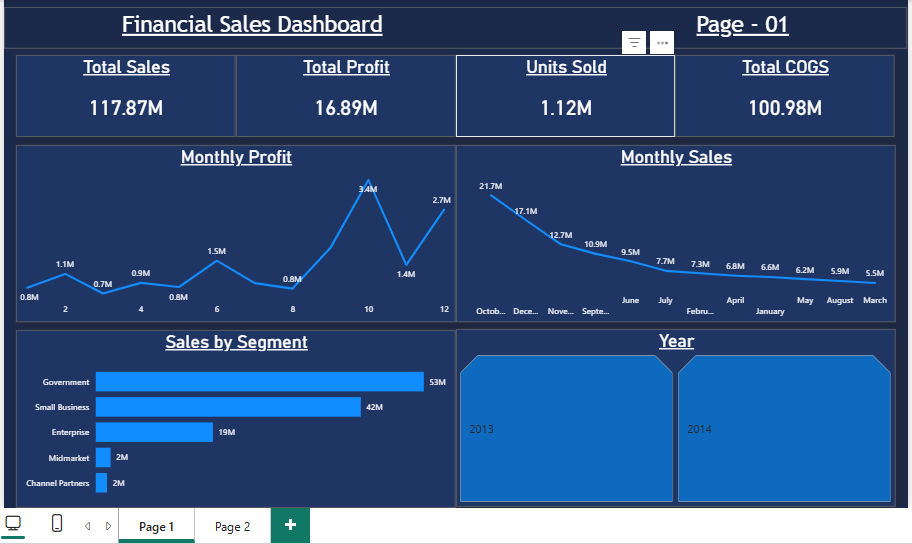

What the dashboard file says about the page in this screenshot:
{"tool":"powerbi","page":{"name":"Page 1","canvas":[1280,720],"ordinal":0},"visuals":[{"type":"textbox","box":[0,10,1280,58.6],"z":0},{"type":"card","title":"Total Sales","fields":{"Values":["Sum(Financials.Sales in $)"]},"box":[17.1,78.6,311.4,115.7],"z":1000},{"type":"card","title":"Total Profit","fields":{"Values":["Sum(Financials.Profit in $)"]},"box":[328.6,78.6,311.4,115.7],"z":2000},{"type":"card","title":"Units Sold","fields":{"Values":["Sum(Financials.Units Sold in $)"]},"box":[640,78.6,311.4,115.7],"z":3000},{"type":"card","title":"Total COGS","fields":{"Values":["Sum(Financials.COGS in $)"]},"box":[951.4,78.6,311.4,115.7],"z":4000},{"type":"lineChart","title":"Monthly Profit","fields":{"Y":["Sum(Financials.Profit in $)"],"Category":["Financials.Month Number"]},"box":[17.1,205.7,622.9,251.4],"z":5000},{"type":"lineChart","title":"Monthly Sales","fields":{"Category":["Financials. Month Name "],"Y":["Sum(Financials.Sales in $)"]},"box":[640,205.7,622.9,251.4],"z":5001},{"type":"barChart","title":"Sales by Segment","fields":{"Category":["Financials.Segment"],"Y":["Sum(Financials.Sales in $)"]},"box":[16.7,468.3,623.3,251.7],"z":5002},{"type":"advancedSlicerVisual","fields":{"Values":["Financials.Year"]},"box":[640,466.7,623.3,251.7],"z":5003}]}

Visuals, with their boxes on the page's 1280x720 design canvas (x1, y1, x2, y2). These are canvas units, not pixel positions in the 912x544 screenshot, which may show the page scaled, cropped or inside an application window:
textbox: {"left": 0, "top": 10, "right": 1280, "bottom": 69}
"Total Sales" card: {"left": 17, "top": 79, "right": 328, "bottom": 194}
"Total Profit" card: {"left": 329, "top": 79, "right": 640, "bottom": 194}
"Units Sold" card: {"left": 640, "top": 79, "right": 951, "bottom": 194}
"Total COGS" card: {"left": 951, "top": 79, "right": 1263, "bottom": 194}
"Monthly Profit" lineChart: {"left": 17, "top": 206, "right": 640, "bottom": 457}
"Monthly Sales" lineChart: {"left": 640, "top": 206, "right": 1263, "bottom": 457}
"Sales by Segment" barChart: {"left": 17, "top": 468, "right": 640, "bottom": 720}
advancedSlicerVisual - Financials.Year: {"left": 640, "top": 467, "right": 1263, "bottom": 718}
